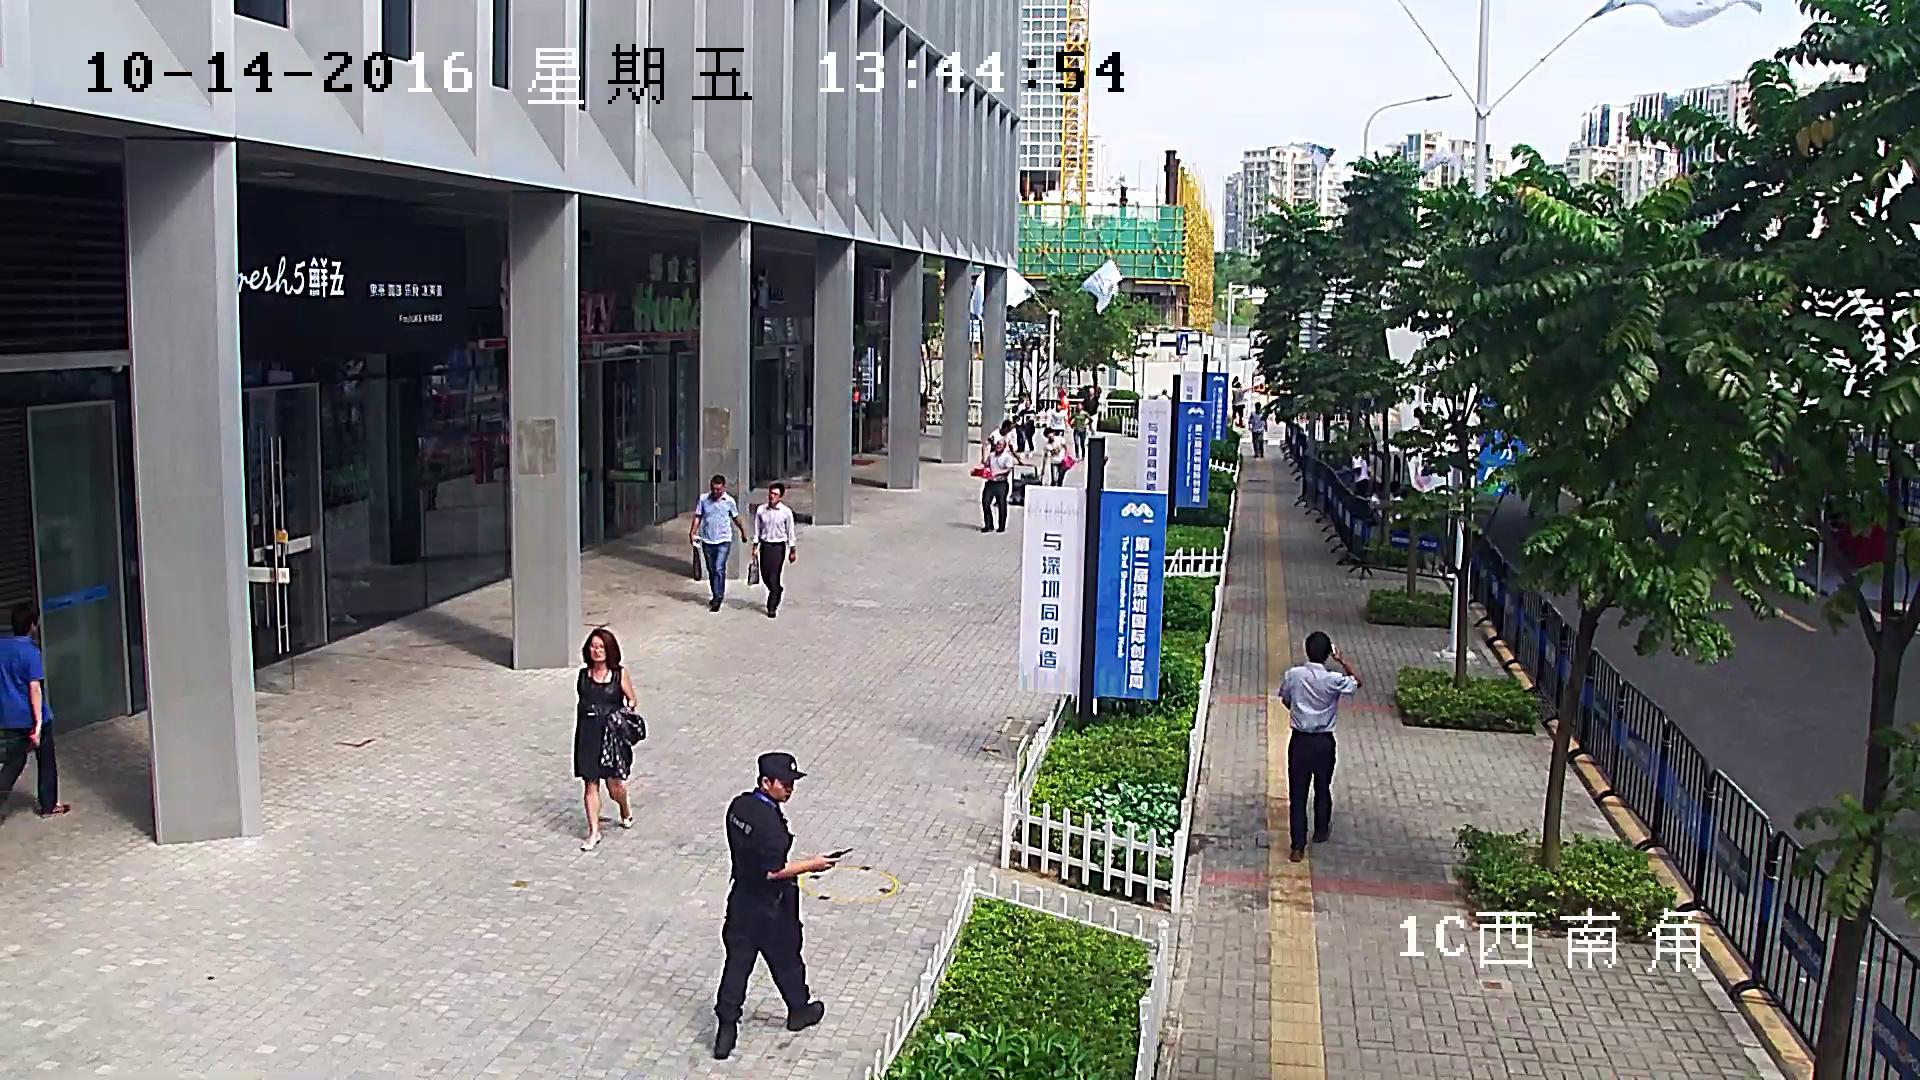person: (713, 751, 853, 1060), (1277, 630, 1362, 861), (573, 628, 645, 850), (0, 602, 70, 825), (688, 474, 746, 612), (748, 483, 796, 617), (1010, 429, 1074, 506), (987, 419, 1042, 506), (970, 439, 1013, 531), (980, 439, 1013, 532), (1041, 429, 1074, 485), (424, 436, 449, 509), (988, 420, 1022, 464), (1068, 403, 1093, 460), (1248, 402, 1268, 458), (1019, 400, 1036, 449), (1352, 453, 1369, 495), (1232, 383, 1248, 424), (1050, 402, 1068, 436), (1085, 387, 1099, 434), (1015, 392, 1025, 452), (1056, 385, 1068, 409)
